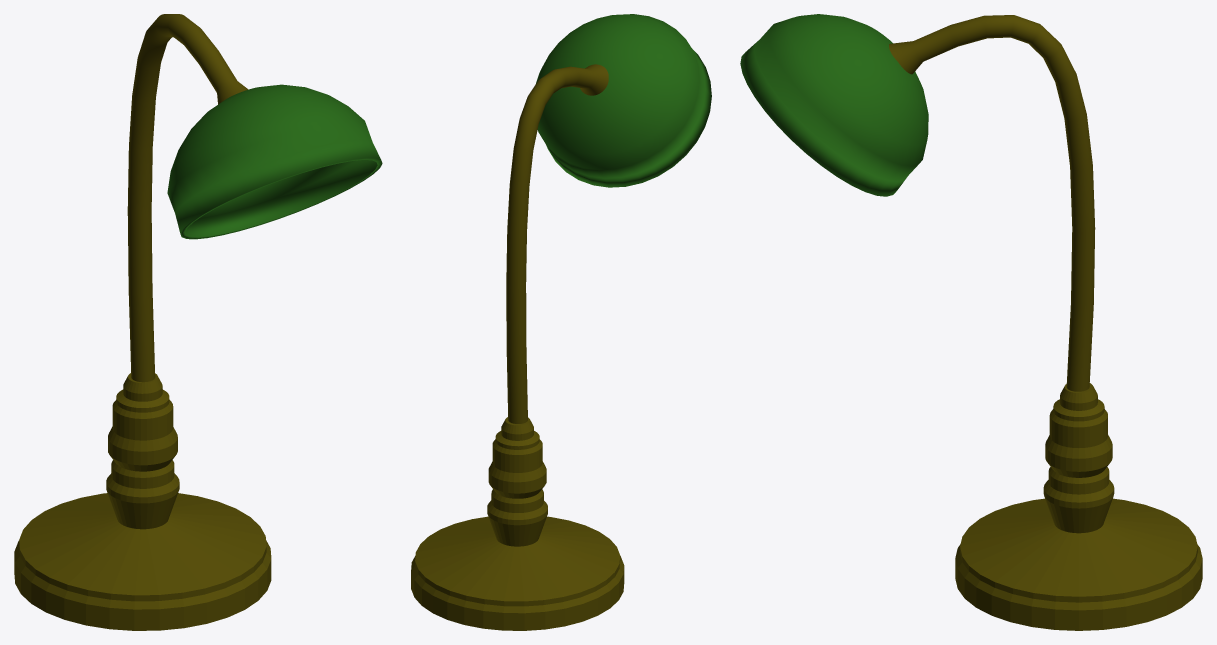
The model's file is lampada.fbx.
3 views of the same model, side by side, from view 1: azimuth 30°, elevation 25°; view 2: azimuth 150°, elevation 25°; view 3: azimuth 270°, elevation 25° (orthographic). The views are drawn at different scales.
Parts seen in each view (by area): view 1: Cylinder, Sphere, BezierCurve; view 2: Cylinder, Sphere, BezierCurve; view 3: Cylinder, Sphere, BezierCurve.
Part boxes in pixels (left/top/right/bottom): Cylinder: left=14, top=373, right=271, bottom=630; Sphere: left=167, top=84, right=382, bottom=239; BezierCurve: left=127, top=14, right=248, bottom=382; Cylinder: left=411, top=417, right=624, bottom=630; Sphere: left=536, top=14, right=711, bottom=187; BezierCurve: left=506, top=64, right=608, bottom=423; Cylinder: left=955, top=383, right=1202, bottom=630; Sphere: left=740, top=14, right=928, bottom=196; BezierCurve: left=889, top=15, right=1095, bottom=391.
Size of the model in its own units: 79.46 by 200 by 149.
